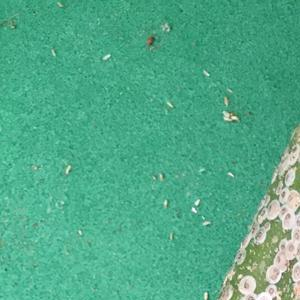Femea: (238, 274, 254, 293)
Macho: (59, 162, 72, 176), (162, 97, 175, 111), (219, 92, 230, 107), (100, 50, 111, 64), (200, 65, 212, 77), (200, 287, 211, 299)
